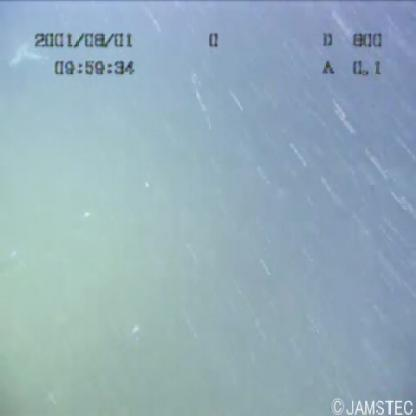Rác: (7, 37, 43, 73)
